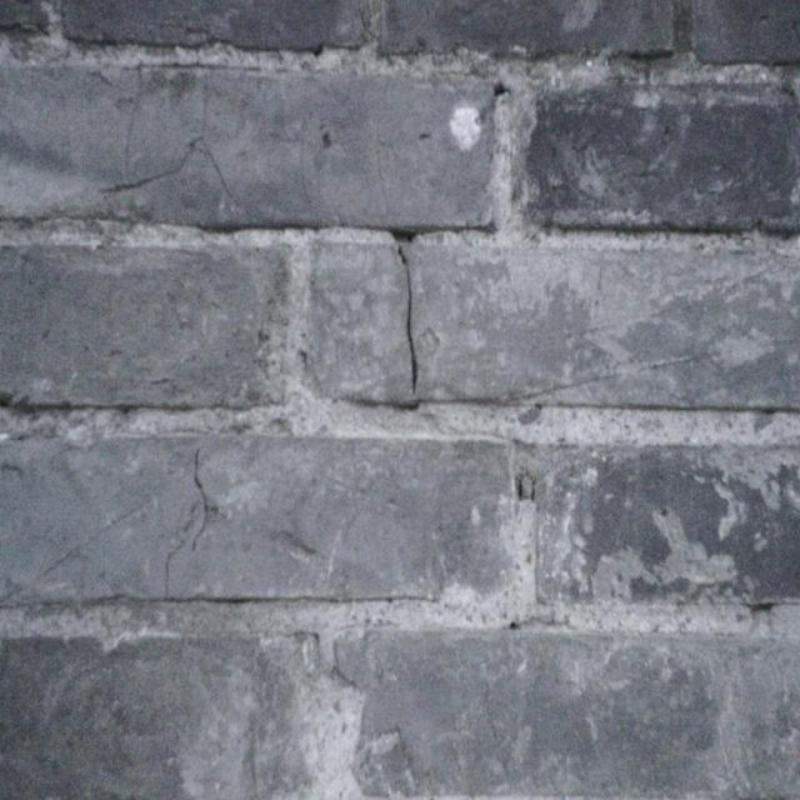crack: (100, 64, 245, 208), (398, 240, 418, 399), (191, 446, 209, 552), (162, 538, 185, 600), (391, 229, 416, 241), (750, 602, 771, 611)
